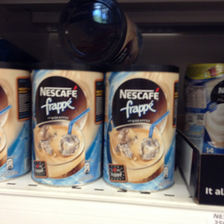coffee: (103, 66, 181, 190), (30, 62, 102, 186), (57, 1, 144, 67)
